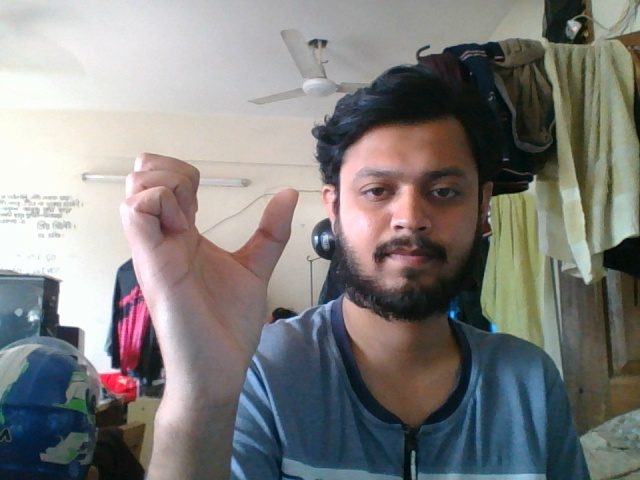kha: (116, 148, 308, 414)
